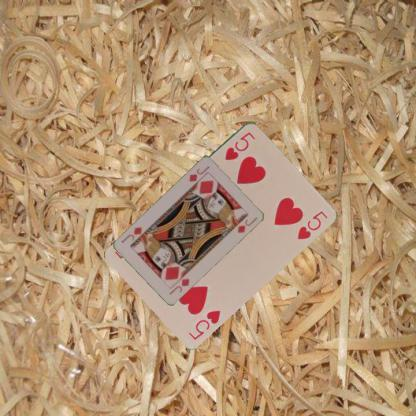5h: (186, 307, 222, 341), (222, 129, 256, 161)
Jd: (166, 275, 192, 296), (186, 162, 211, 183)
